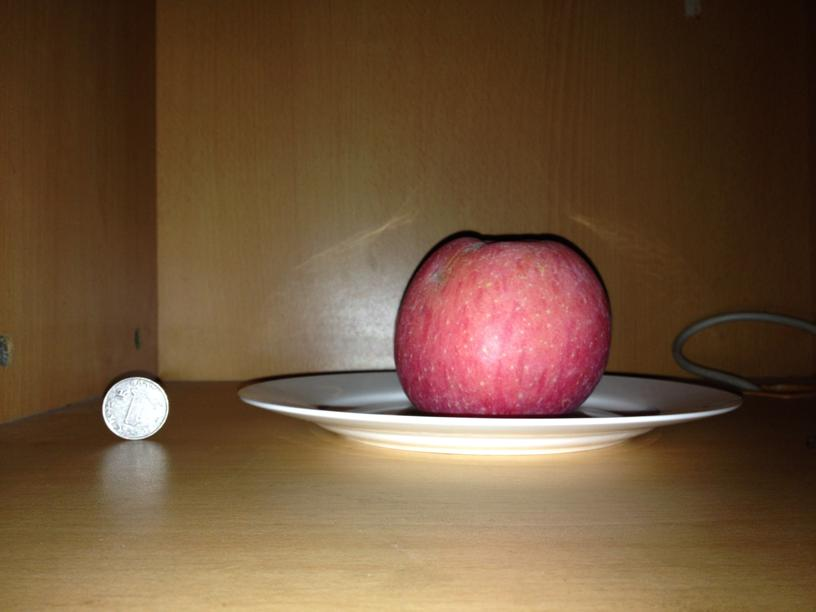apple: (396, 233, 609, 414)
coin: (103, 375, 168, 441)
